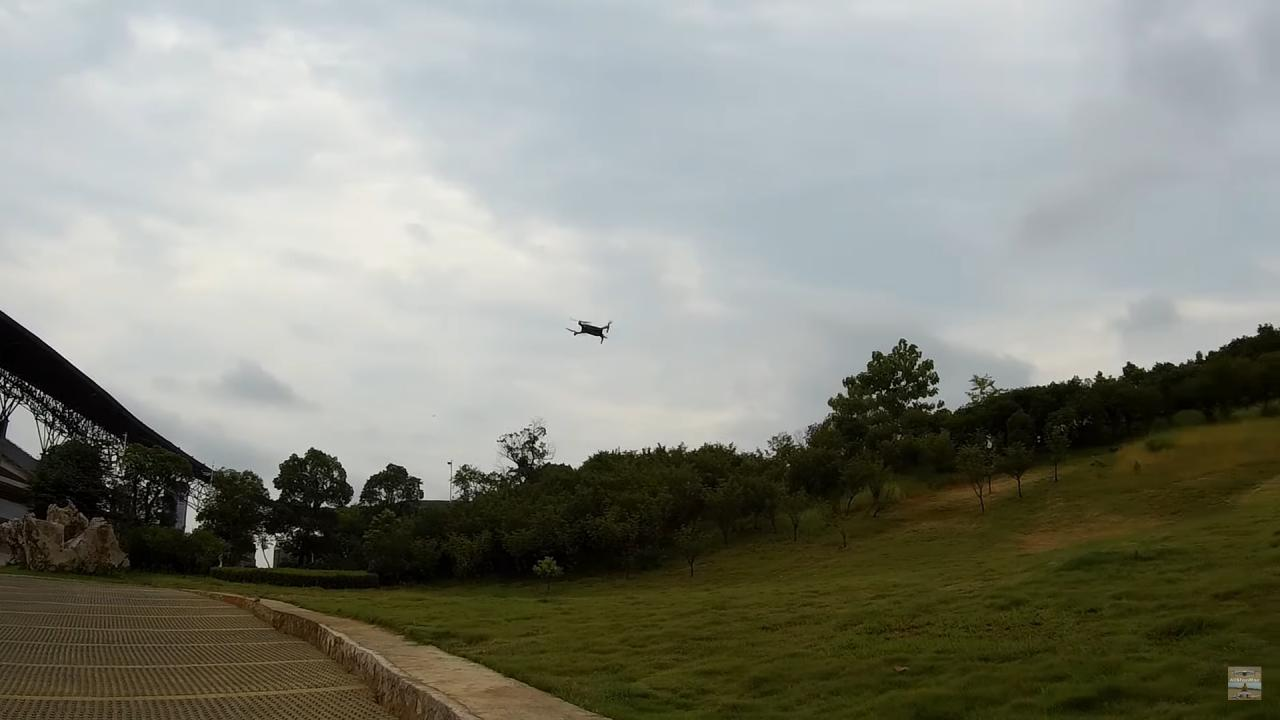Drone: (558, 308, 623, 351)
